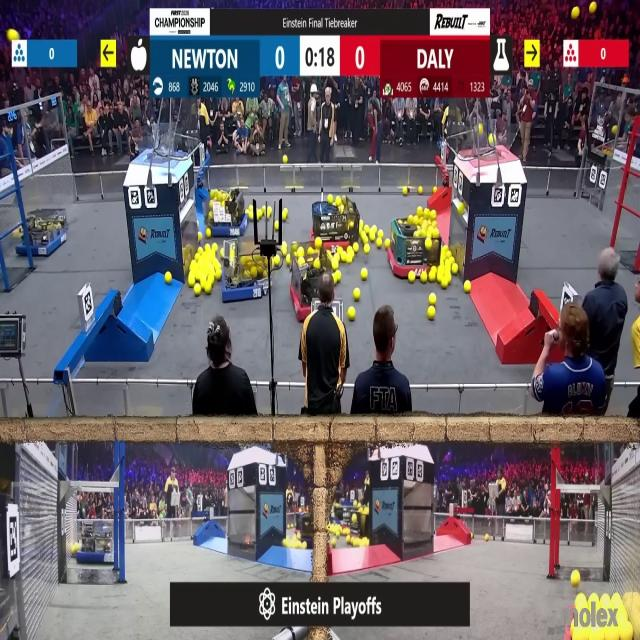ball_airborne: (571, 8, 578, 19), (590, 2, 596, 14), (611, 126, 617, 136), (479, 125, 485, 135), (488, 135, 492, 143)
ball_ground: (571, 570, 579, 586), (348, 308, 356, 321), (8, 30, 17, 41), (274, 255, 282, 267), (428, 270, 436, 282), (428, 293, 436, 304), (420, 273, 428, 284), (354, 288, 361, 300), (193, 284, 200, 296), (188, 275, 195, 287), (335, 272, 342, 284), (360, 234, 368, 244), (428, 307, 434, 320), (331, 261, 338, 272), (464, 281, 470, 293), (166, 273, 172, 285), (282, 244, 288, 256), (409, 274, 416, 284), (315, 239, 322, 249), (205, 284, 212, 294), (297, 256, 304, 266), (282, 209, 288, 220), (297, 248, 304, 257), (361, 270, 367, 280), (443, 278, 449, 288), (452, 266, 458, 276), (286, 255, 292, 265), (215, 271, 221, 281), (256, 210, 262, 220), (314, 258, 320, 268), (189, 262, 195, 272), (363, 245, 369, 254), (347, 254, 353, 263), (206, 230, 212, 239), (268, 208, 274, 217), (308, 247, 314, 256), (402, 186, 408, 195), (368, 233, 374, 242), (362, 537, 368, 546), (292, 240, 298, 249), (354, 243, 359, 253), (219, 248, 224, 258), (377, 240, 383, 248), (363, 224, 369, 232), (195, 233, 201, 241), (196, 274, 202, 282), (275, 221, 280, 230), (283, 154, 288, 163), (331, 538, 336, 547), (430, 210, 435, 219), (418, 186, 424, 193), (370, 224, 376, 231), (200, 245, 206, 252), (417, 208, 423, 215), (379, 231, 384, 239), (441, 262, 446, 270), (212, 242, 217, 249), (450, 255, 455, 262), (386, 241, 390, 249), (486, 537, 490, 544), (432, 186, 436, 192), (472, 535, 475, 542)
goal: (467, 124, 520, 160), (129, 130, 188, 160)
robot_blue: (222, 240, 272, 303), (204, 188, 247, 238), (24, 207, 67, 256), (75, 520, 113, 562), (0, 584, 12, 636), (332, 504, 353, 527)
robot_red: (390, 213, 438, 279), (292, 259, 334, 321), (313, 196, 360, 249)
